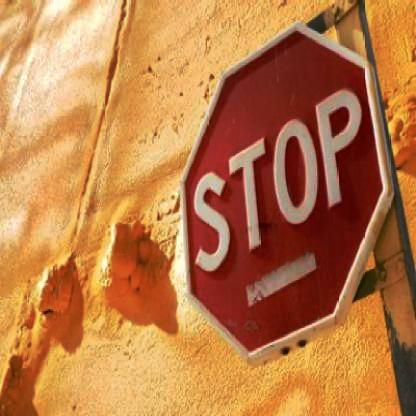Stop Sign: (176, 2, 389, 368)
